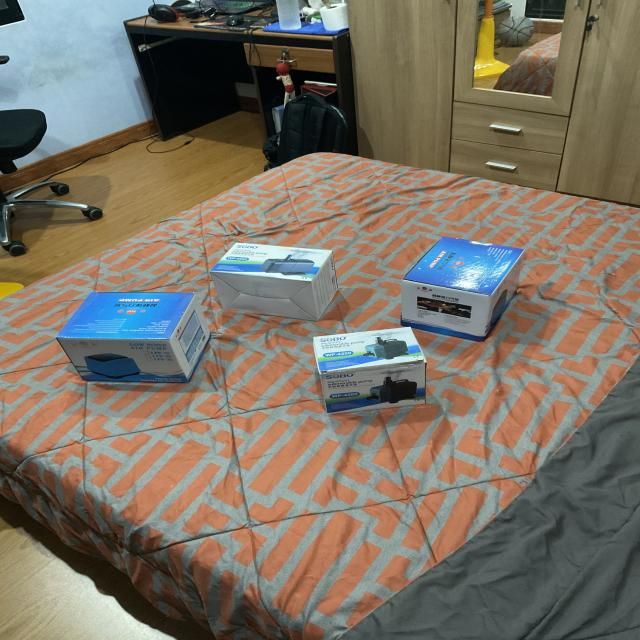SOBO_WP_4200: (297, 303, 437, 415), (209, 234, 346, 324)
YAMANO_LPP_20: (49, 262, 217, 388), (386, 224, 528, 333)
